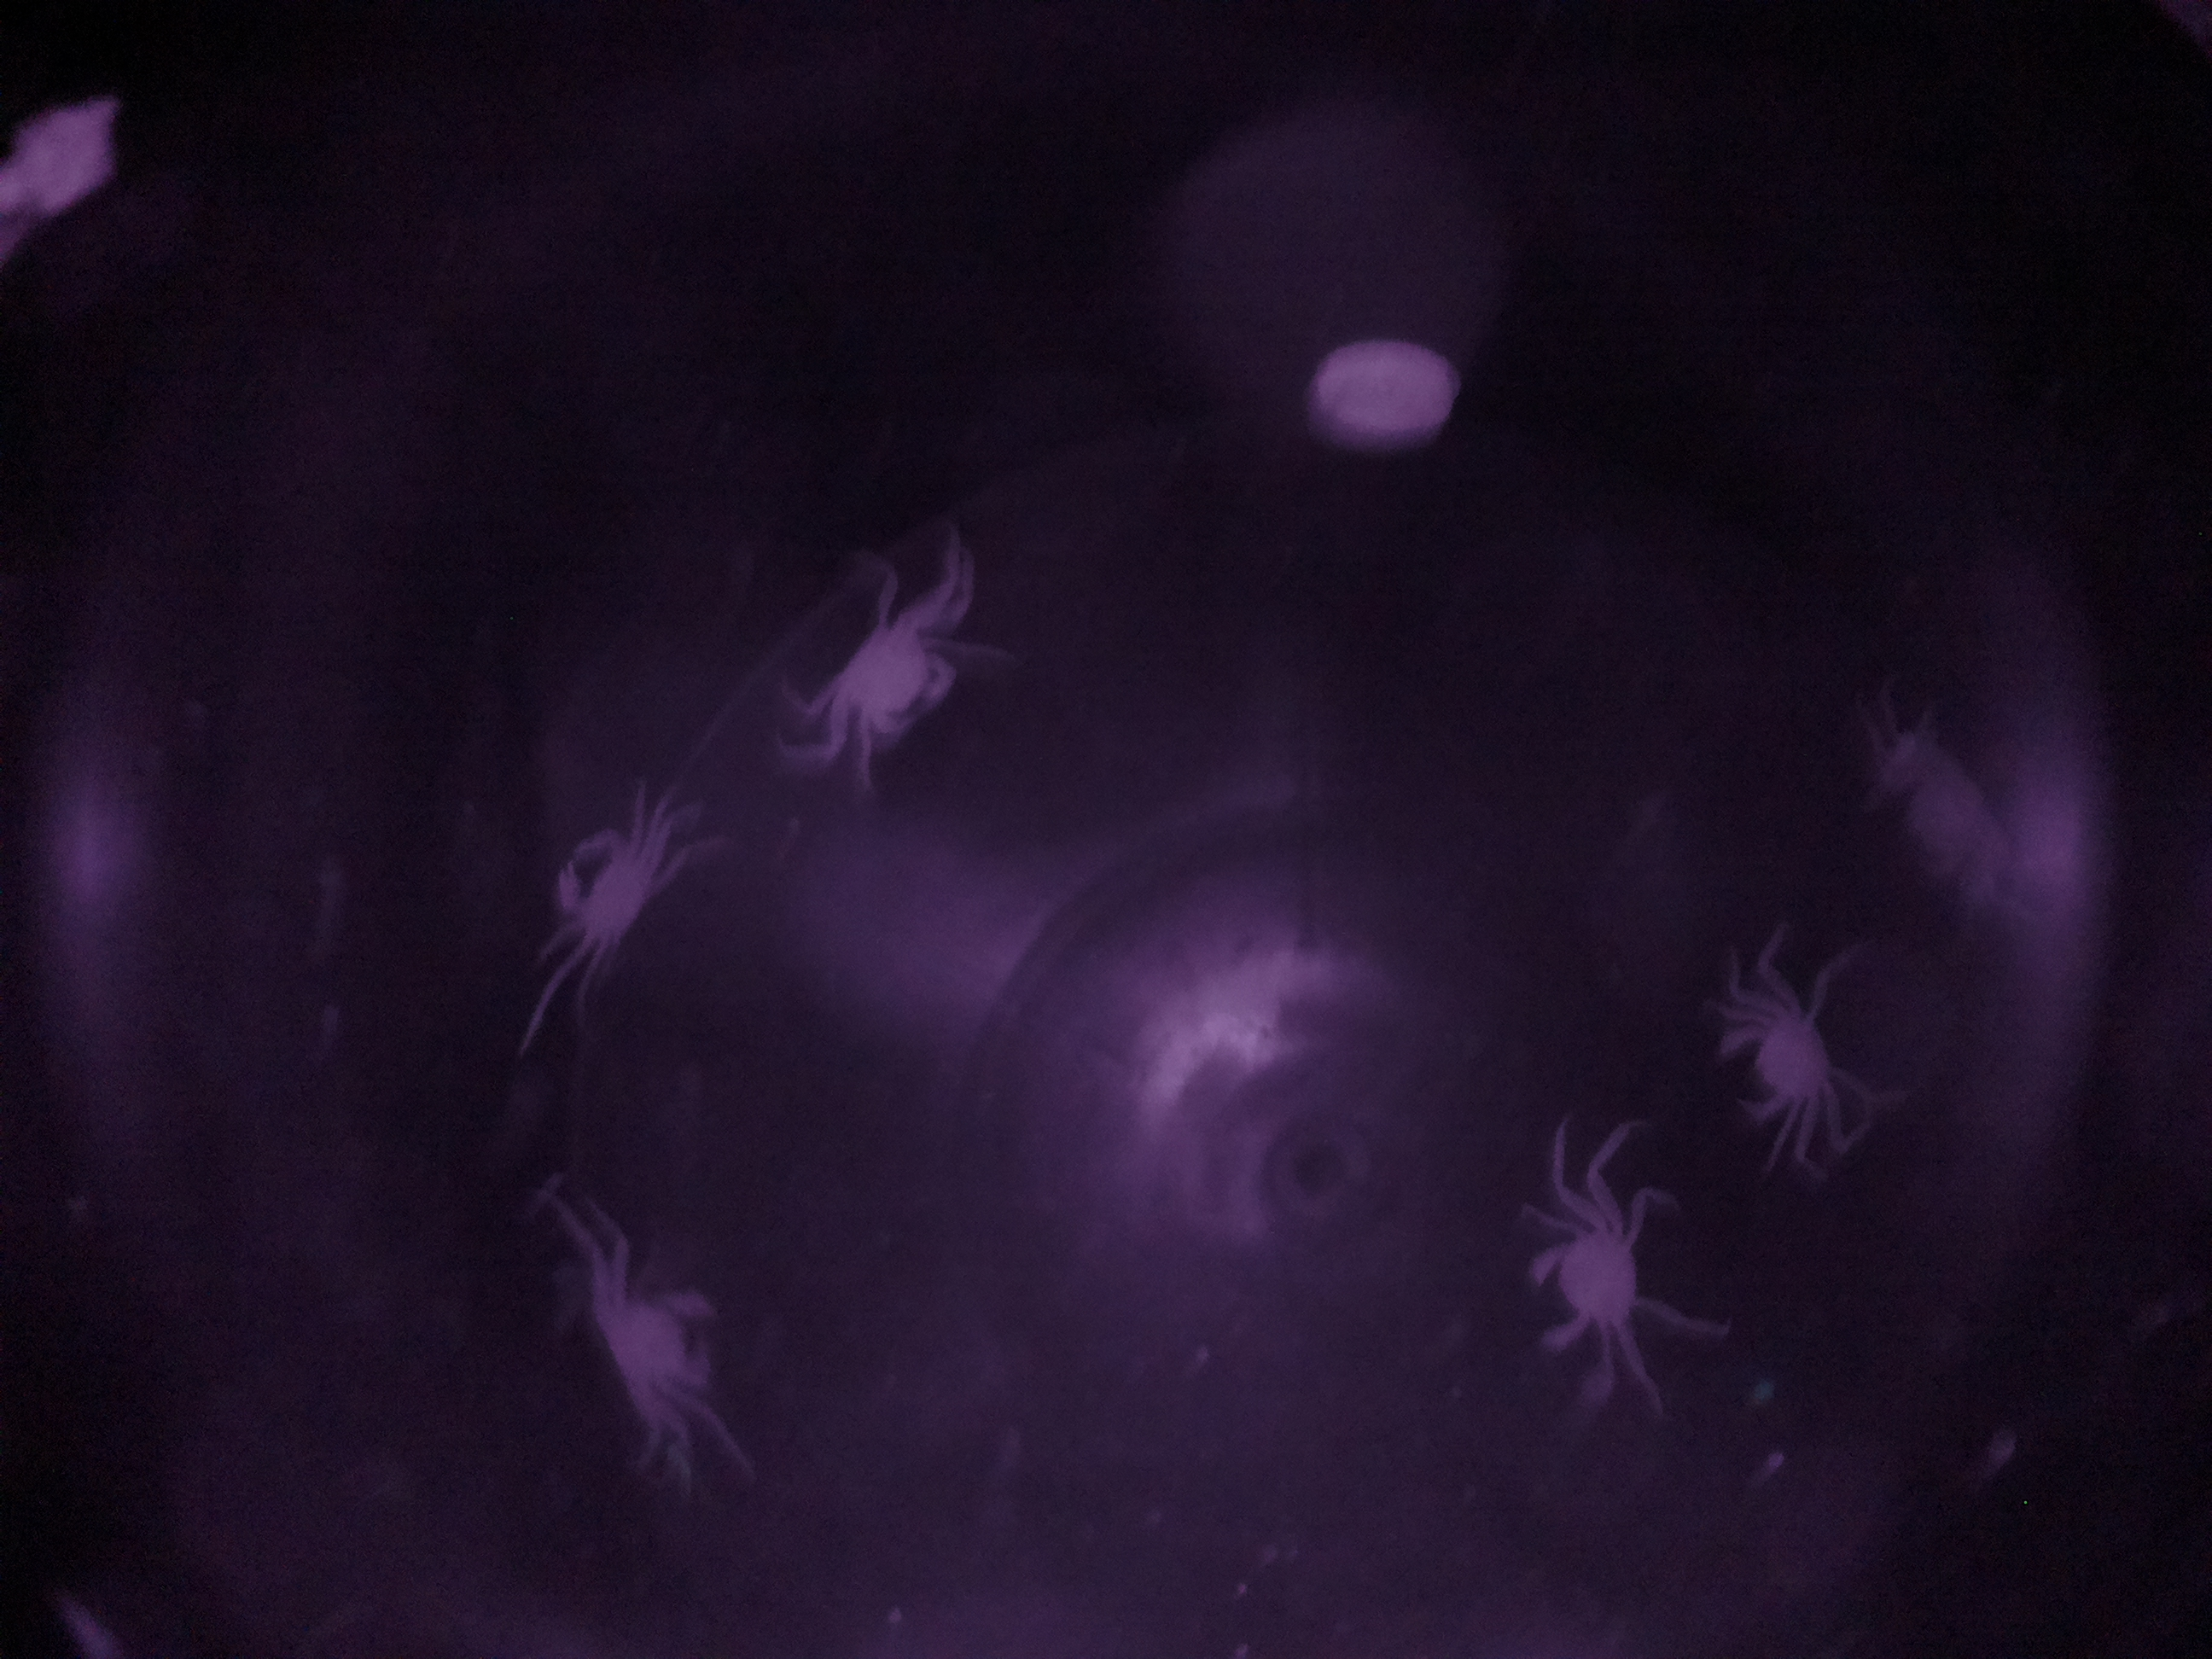Crab: (1505, 1175, 1686, 1392), (510, 788, 686, 985), (1707, 981, 1857, 1136)
